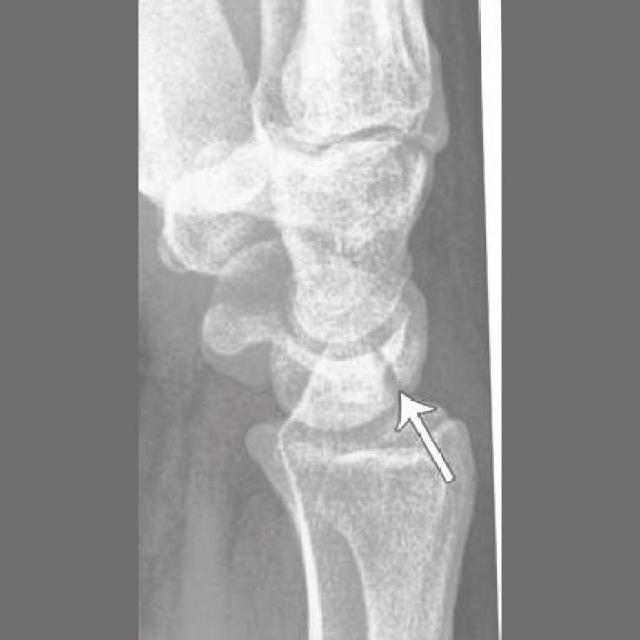Fracture: (335, 329, 408, 403)
